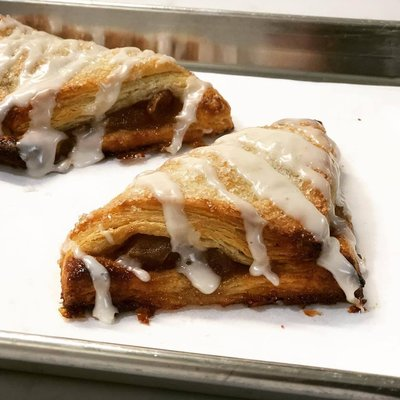soup: (57, 120, 370, 325), (0, 13, 235, 179)
